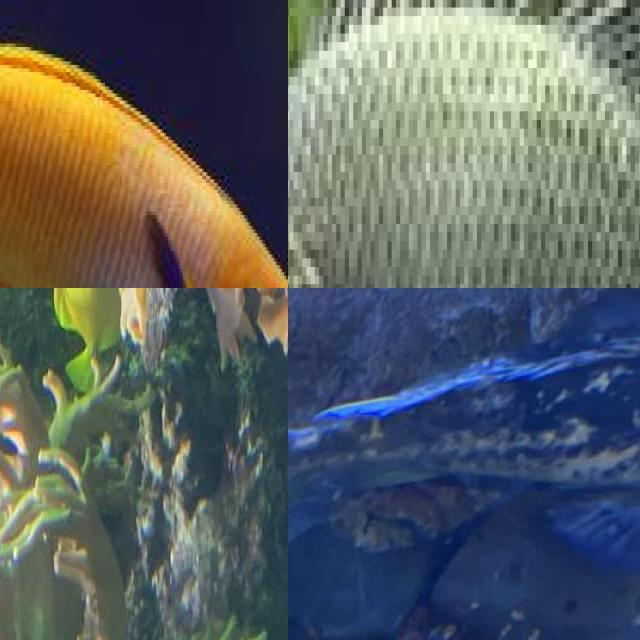fish: (288, 308, 640, 597), (288, 0, 640, 288), (0, 0, 288, 288)
